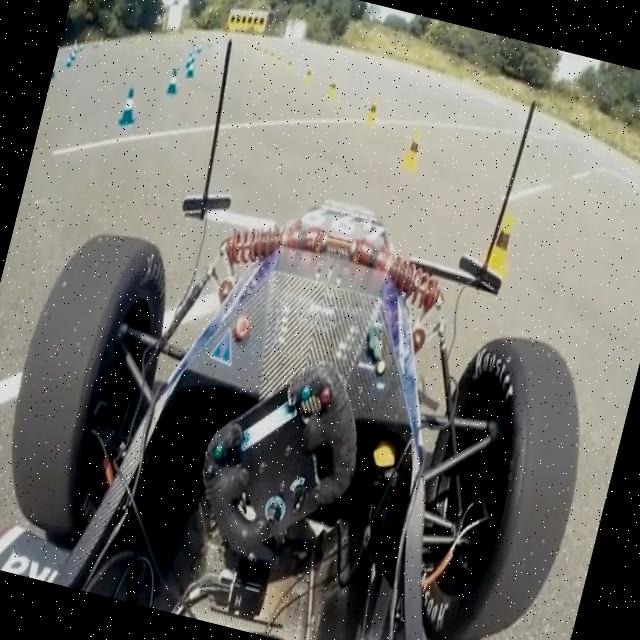blue_cone: (117, 85, 142, 128), (164, 66, 182, 97)
yellow_cone: (478, 202, 524, 284), (398, 128, 426, 176)
